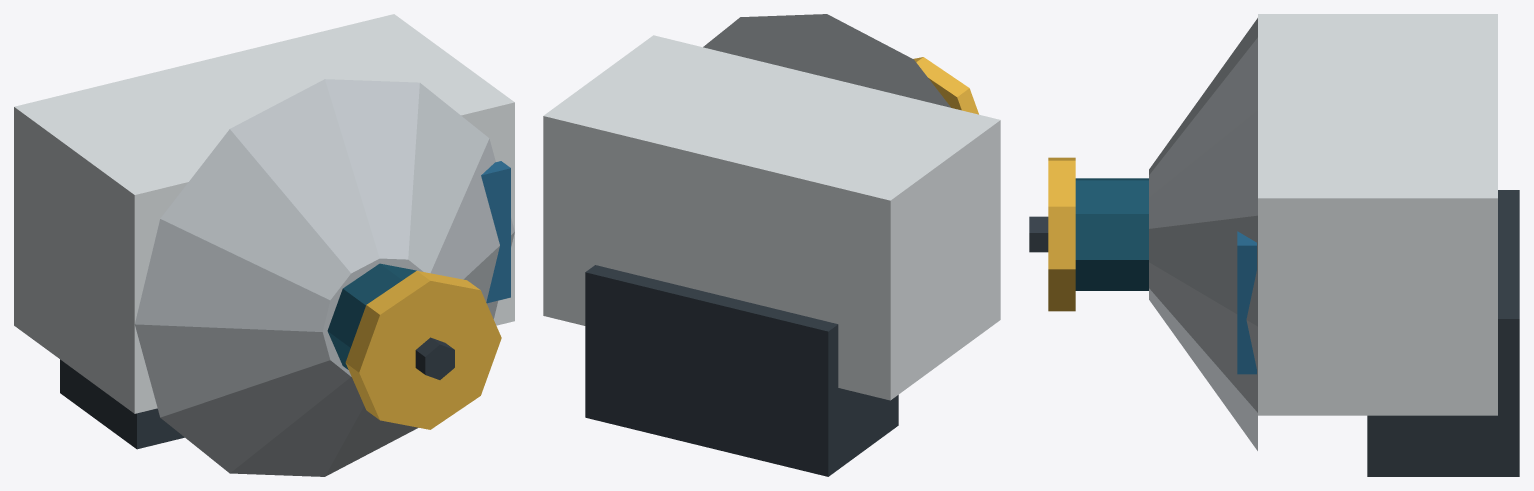
Rendered from perilune-prospector-eye.glb.
3 views of the same model, side by side, from view 1: azimuth 30°, elevation 25°; view 2: azimuth 150°, elevation 25°; view 3: azimuth 270°, elevation 25° (orthographic). The views are drawn at different scales.
Visible parts, largest first — view 1: SM_Science_ProspectorEye_Dish, SM_Science_ProspectorEye_Housing, SM_Science_ProspectorEye_Collar, SM_Science_ProspectorEye_Mount, SM_Science_ProspectorEye_Sensor, SM_Science_ProspectorEye_Panel, SM_Science_ProspectorEye_Mast; view 2: SM_Science_ProspectorEye_Housing, SM_Science_ProspectorEye_Mount, SM_Science_ProspectorEye_Dish, SM_Science_ProspectorEye_Collar; view 3: SM_Science_ProspectorEye_Housing, SM_Science_ProspectorEye_Dish, SM_Science_ProspectorEye_Mount, SM_Science_ProspectorEye_Sensor, SM_Science_ProspectorEye_Collar, SM_Science_ProspectorEye_Panel, SM_Science_ProspectorEye_Mast.
Boxes of the visible parts, x1,y1,x2,y2 form: SM_Science_ProspectorEye_Dish: [135, 79, 514, 476]; SM_Science_ProspectorEye_Housing: [14, 14, 514, 413]; SM_Science_ProspectorEye_Collar: [345, 271, 501, 429]; SM_Science_ProspectorEye_Mount: [60, 359, 184, 449]; SM_Science_ProspectorEye_Sensor: [327, 263, 416, 369]; SM_Science_ProspectorEye_Panel: [481, 161, 510, 303]; SM_Science_ProspectorEye_Mast: [415, 337, 454, 379]; SM_Science_ProspectorEye_Housing: [543, 35, 1000, 400]; SM_Science_ProspectorEye_Mount: [585, 265, 898, 476]; SM_Science_ProspectorEye_Dish: [703, 14, 950, 107]; SM_Science_ProspectorEye_Collar: [913, 57, 978, 114]; SM_Science_ProspectorEye_Housing: [1258, 14, 1497, 415]; SM_Science_ProspectorEye_Dish: [1149, 18, 1257, 450]; SM_Science_ProspectorEye_Mount: [1367, 190, 1519, 476]; SM_Science_ProspectorEye_Sensor: [1075, 178, 1148, 290]; SM_Science_ProspectorEye_Collar: [1048, 157, 1075, 311]; SM_Science_ProspectorEye_Panel: [1237, 231, 1256, 374]; SM_Science_ProspectorEye_Mast: [1029, 216, 1048, 252].
Size of the model in its own units: 0.4 by 0.4 by 0.45.
